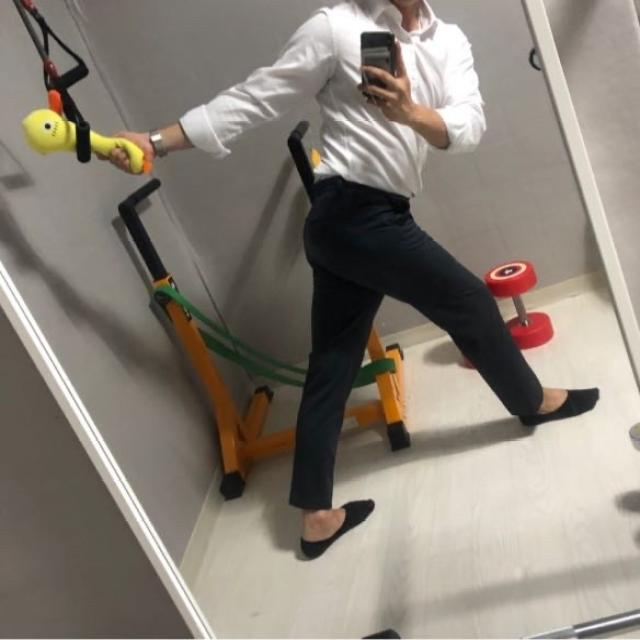longsleeve: (185, 2, 490, 200)
slacks: (288, 188, 546, 518)
